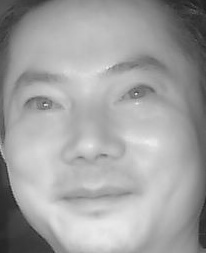eye: (113, 84, 160, 109), (23, 94, 67, 119)
mouth: (56, 176, 139, 218)
